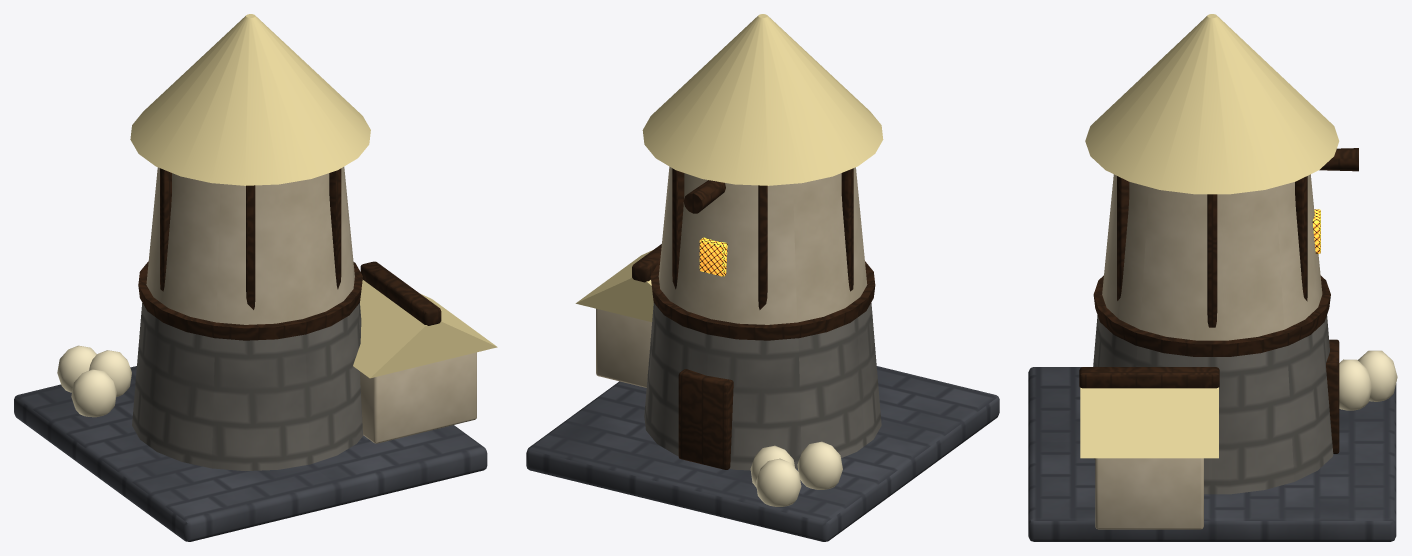
Rendered from building_mill.glb.
The picture shows the model from 3 angles, left to right: view 1: azimuth 30°, elevation 25°; view 2: azimuth 150°, elevation 25°; view 3: azimuth 270°, elevation 25°; orthographic projection. The views are drawn at different scales.
Parts seen in each view (by area): view 1: building_mill; view 2: building_mill; view 3: building_mill.
Part boxes in pixels (box(x1,y1,x2,y2)): building_mill: box(14, 14, 497, 541); building_mill: box(526, 14, 999, 541); building_mill: box(1028, 14, 1397, 541).
Size of the model in its own units: 4.88 by 5.94 by 4.42.
7 materials, 5 textured.
